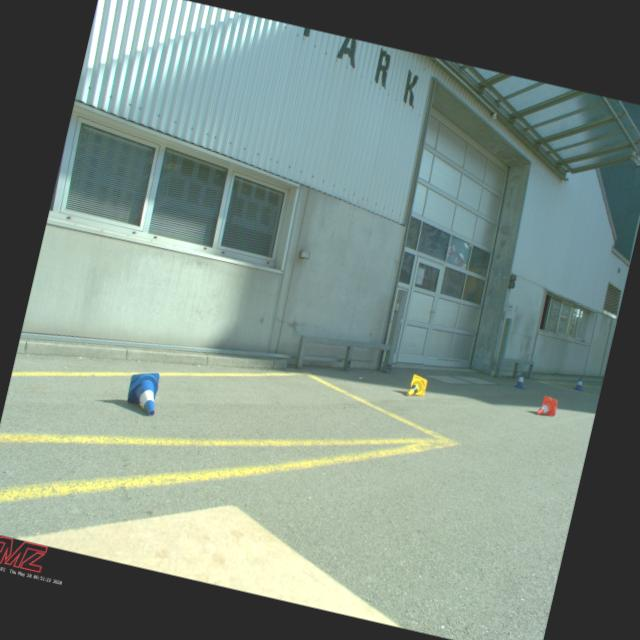blue_cone: (123, 368, 163, 417), (513, 370, 528, 390), (574, 376, 586, 392)
orange_cone: (536, 394, 559, 418)
yellow_cone: (406, 373, 428, 399)
